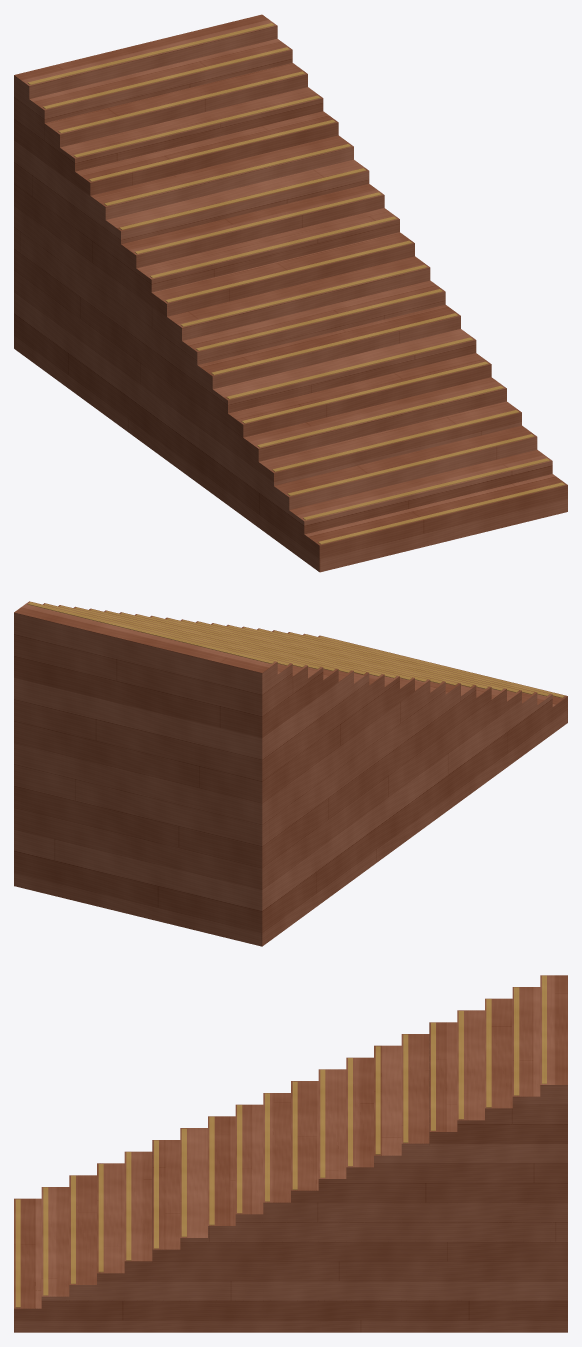
Rendered from SM_Theater_Stair_Flight20.fbx.
3 views of the same model, one above another, from view 1: azimuth 30°, elevation 25°; view 2: azimuth 150°, elevation 25°; view 3: azimuth 270°, elevation 25° (orthographic). The views are drawn at different scales.
Parts seen in each view (by area): view 1: SM_Theater_Stair_Flight20_LOD0; view 2: SM_Theater_Stair_Flight20_LOD0; view 3: SM_Theater_Stair_Flight20_LOD0.
Part boxes in pixels (x1,y1,x2,y2): SM_Theater_Stair_Flight20_LOD0: (14, 14, 567, 572); SM_Theater_Stair_Flight20_LOD0: (14, 601, 567, 946); SM_Theater_Stair_Flight20_LOD0: (14, 975, 567, 1332).
Size of what is drawn, in the model's own units: 3 by 3.17 by 6.4.
